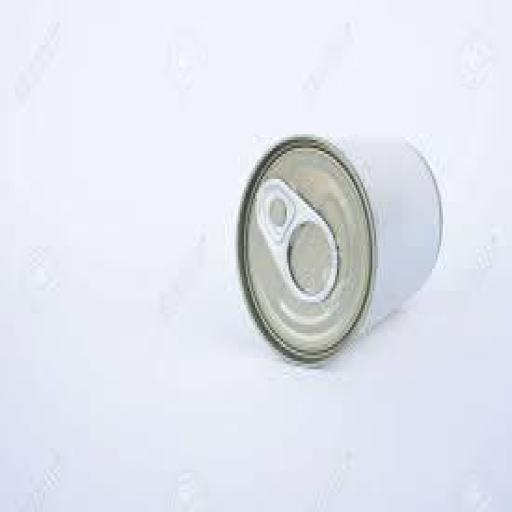can: (231, 132, 447, 369)
pop tab: (253, 179, 341, 305)
